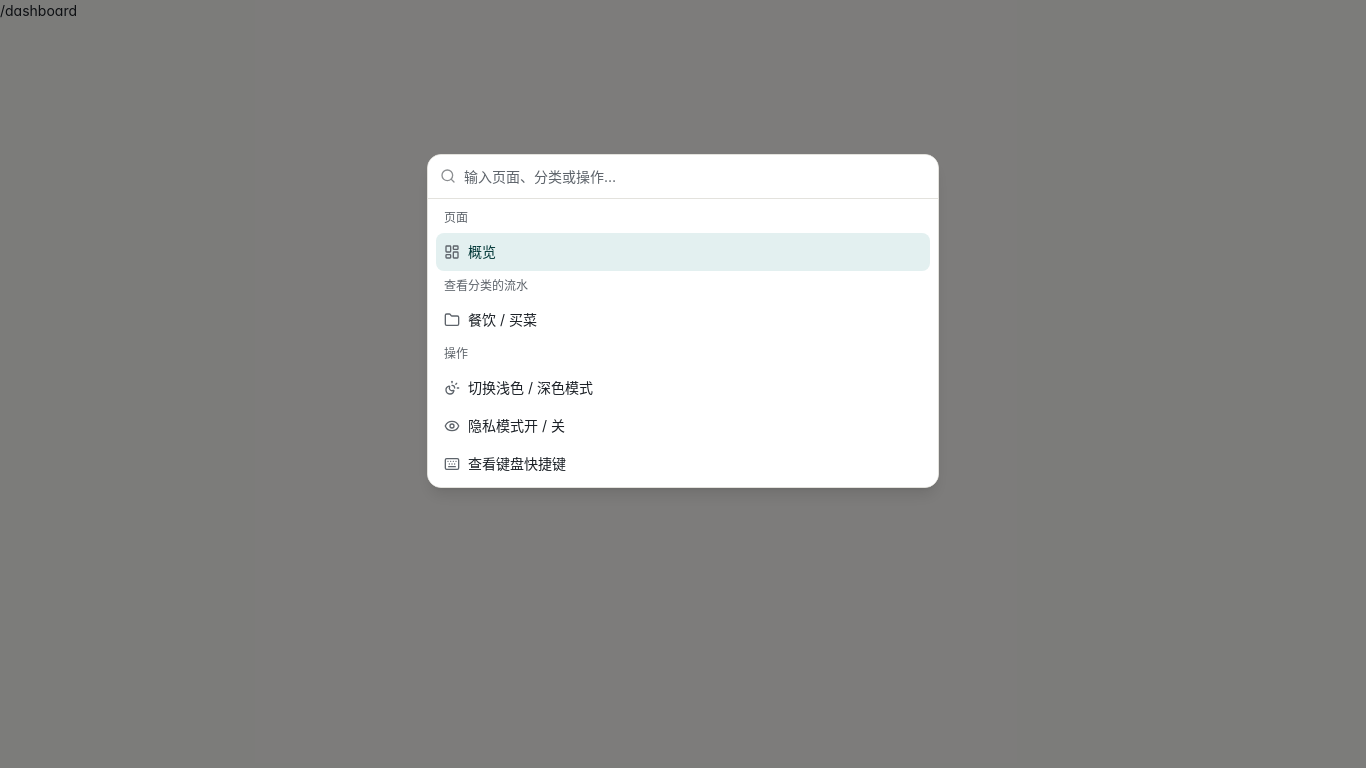
Test: CommandPalette › jumps to a category's transactions
Type "买菜" into the dropdown.
click(695, 176); type("买菜")  # box [464,156,926,196]
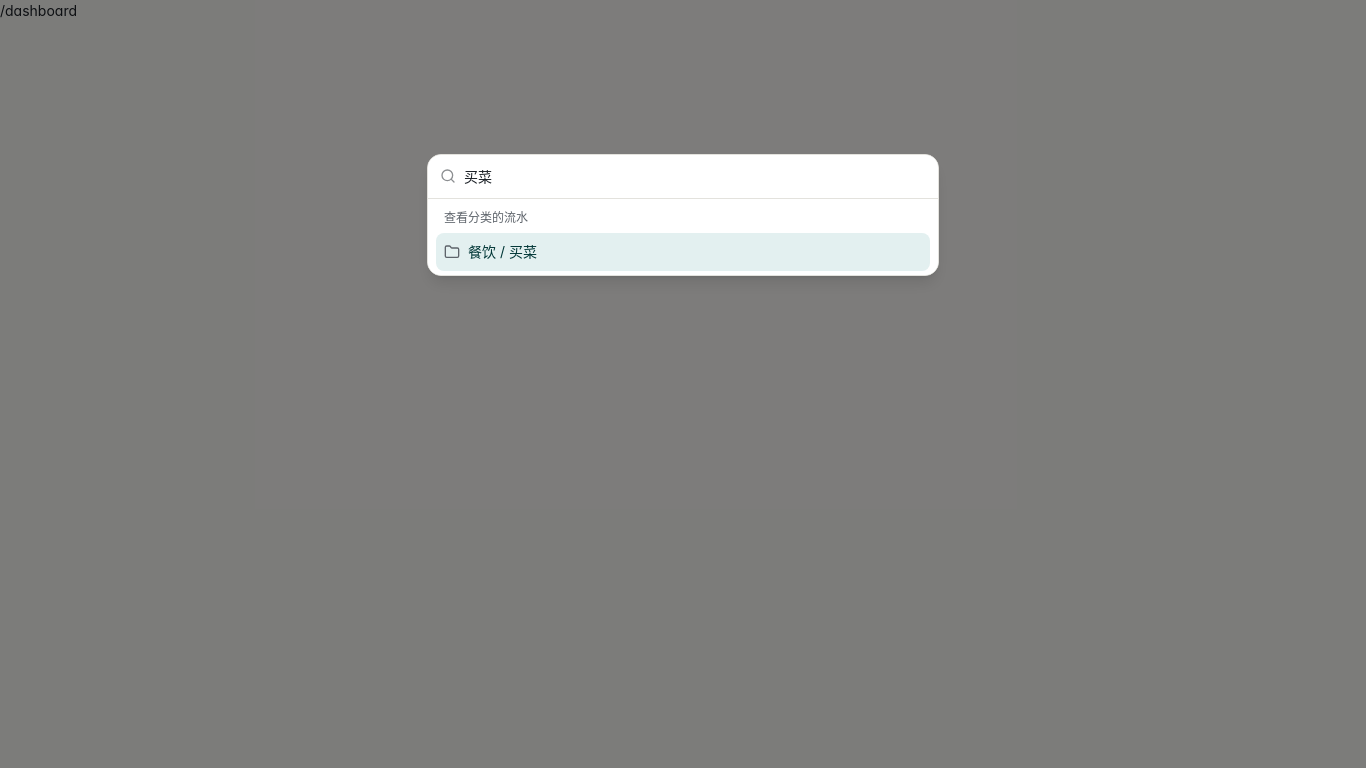
Press Enter
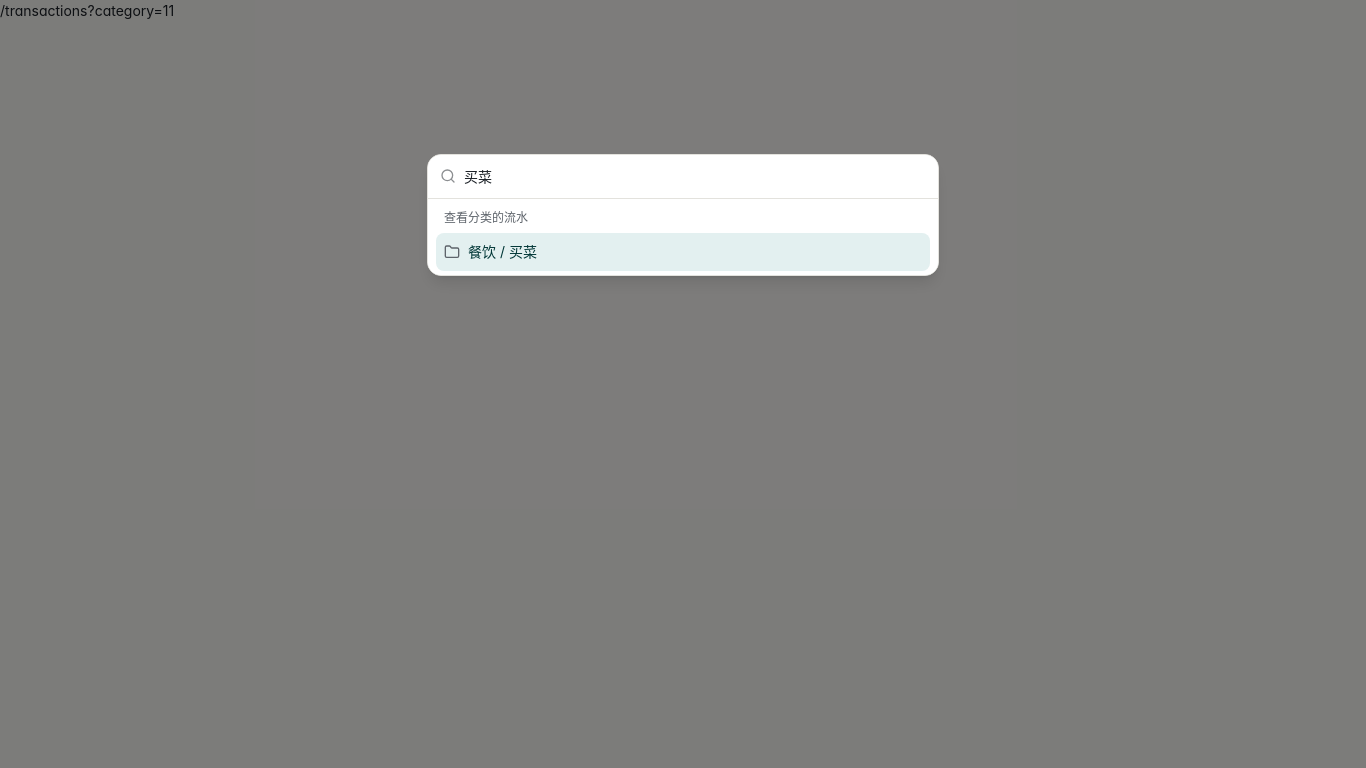
Check: the text named "where" reads "/transactions?category=11", box [0,2,174,19]
